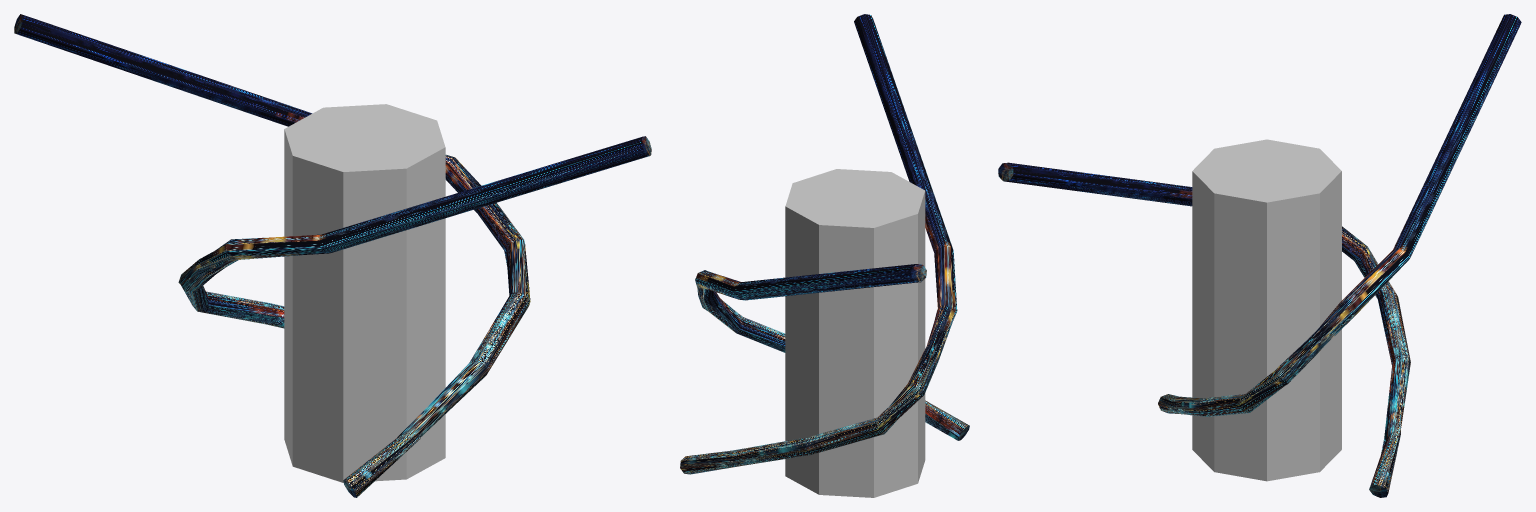
The model's file is SC_C1 Building.obj.
3 renders of one model, left to right at view 1: azimuth 30°, elevation 25°; view 2: azimuth 150°, elevation 25°; view 3: azimuth 270°, elevation 25°, orthographic. The views are drawn at different scales.
Visible parts, largest first — view 1: Cylinder, Cylinder.001, Cylinder.002, Cylinder.003; view 2: Cylinder, Cylinder.002, Cylinder.001, Cylinder.003; view 3: Cylinder, Cylinder.001, Cylinder.002, Cylinder.003.
Part boxes in pixels (x1,y1,x2,y2): Cylinder: [284, 131, 445, 482]; Cylinder.001: [14, 14, 530, 497]; Cylinder.002: [178, 136, 651, 328]; Cylinder.003: [284, 104, 445, 173]; Cylinder: [785, 193, 925, 497]; Cylinder.002: [680, 14, 957, 474]; Cylinder.001: [695, 264, 969, 440]; Cylinder.003: [785, 169, 925, 229]; Cylinder: [1192, 172, 1341, 481]; Cylinder.001: [1158, 14, 1521, 416]; Cylinder.002: [998, 162, 1410, 497]; Cylinder.003: [1192, 139, 1341, 203].
Size of the model in its own units: 130 by 125 by 171.
